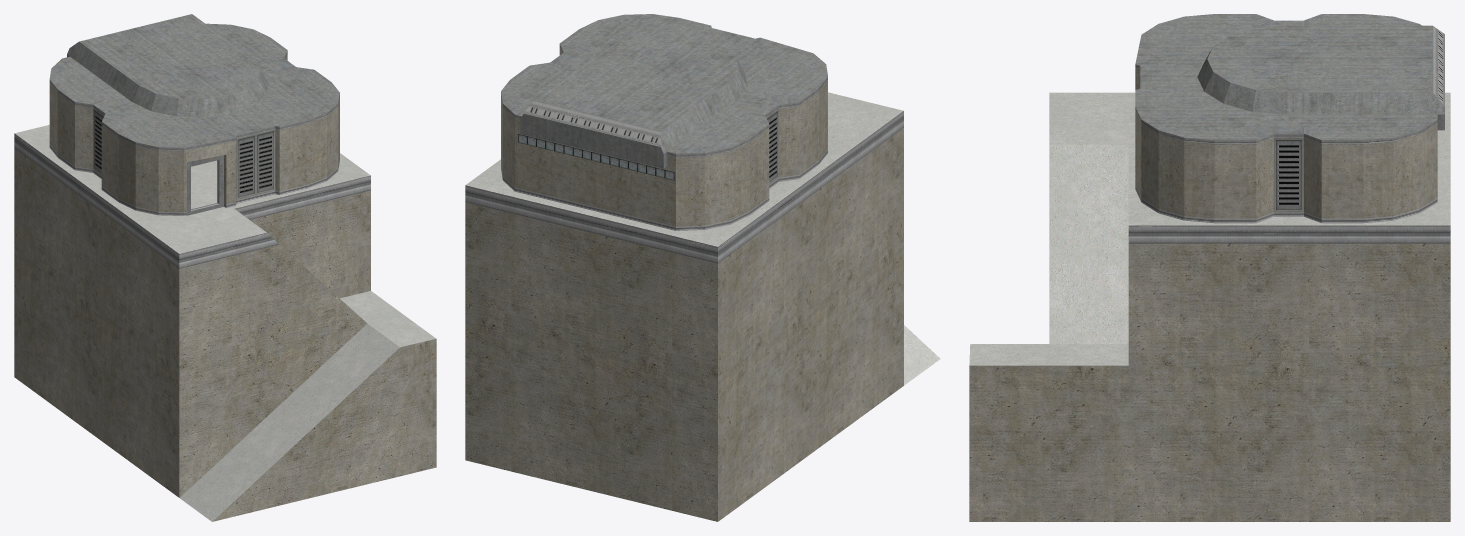
File: ply_all_house_sm_s02_fp2_r0_mesh_l1.fbx
The picture shows the model from 3 angles, left to right: view 1: azimuth 30°, elevation 25°; view 2: azimuth 150°, elevation 25°; view 3: azimuth 270°, elevation 25°; orthographic projection. The views are drawn at different scales.
Visible parts, largest first — view 1: mesh_node; view 2: mesh_node; view 3: mesh_node.
Boxes of the visible parts, box(x1,y1,x2,y2) form: mesh_node: box(14, 14, 436, 521); mesh_node: box(465, 14, 940, 521); mesh_node: box(969, 14, 1450, 521).
Bounding box in the file's own units: 15.87 × 22.12 × 24.27.
